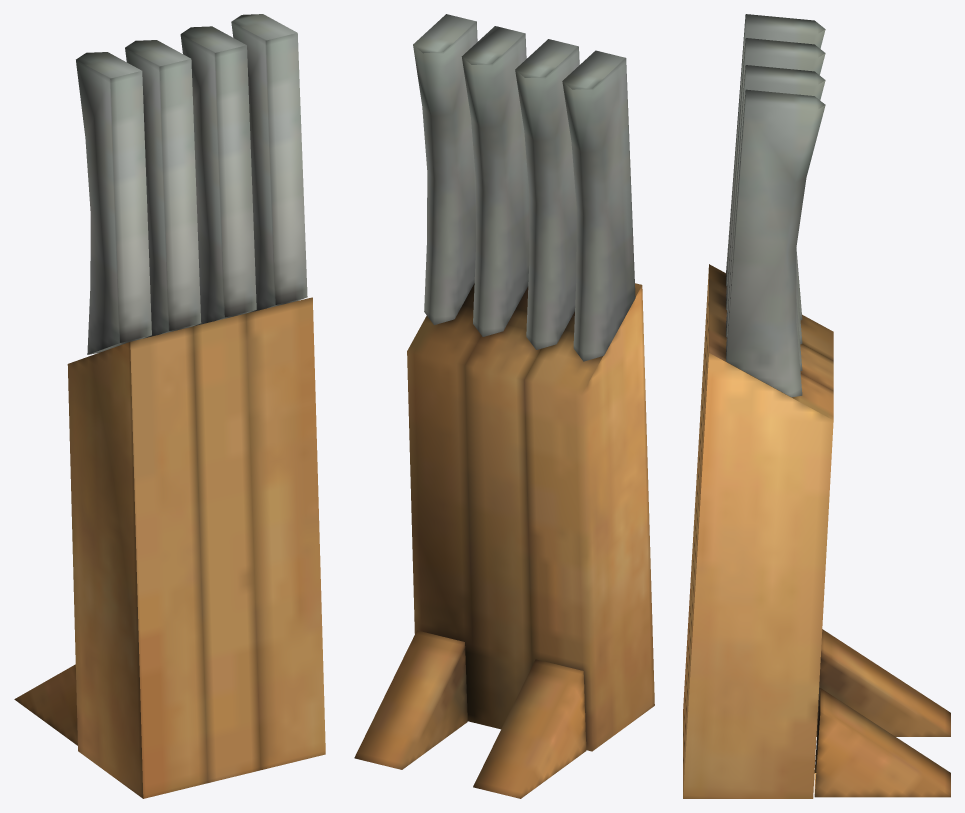
Rendered from KnifeHolder01.FBX.
3 renders of one model, left to right at view 1: azimuth 30°, elevation 25°; view 2: azimuth 150°, elevation 25°; view 3: azimuth 270°, elevation 25°, orthographic. The views are drawn at different scales.
Parts seen in each view (by area): view 1: KnifeHolder01; view 2: KnifeHolder01; view 3: KnifeHolder01.
Boxes of the visible parts, x1,y1,x2,y2 form: KnifeHolder01: (14, 14, 325, 798); KnifeHolder01: (354, 14, 654, 798); KnifeHolder01: (683, 14, 950, 798).
Bounding box in the file's own units: 0.0989 × 0.3519 × 0.1228.
